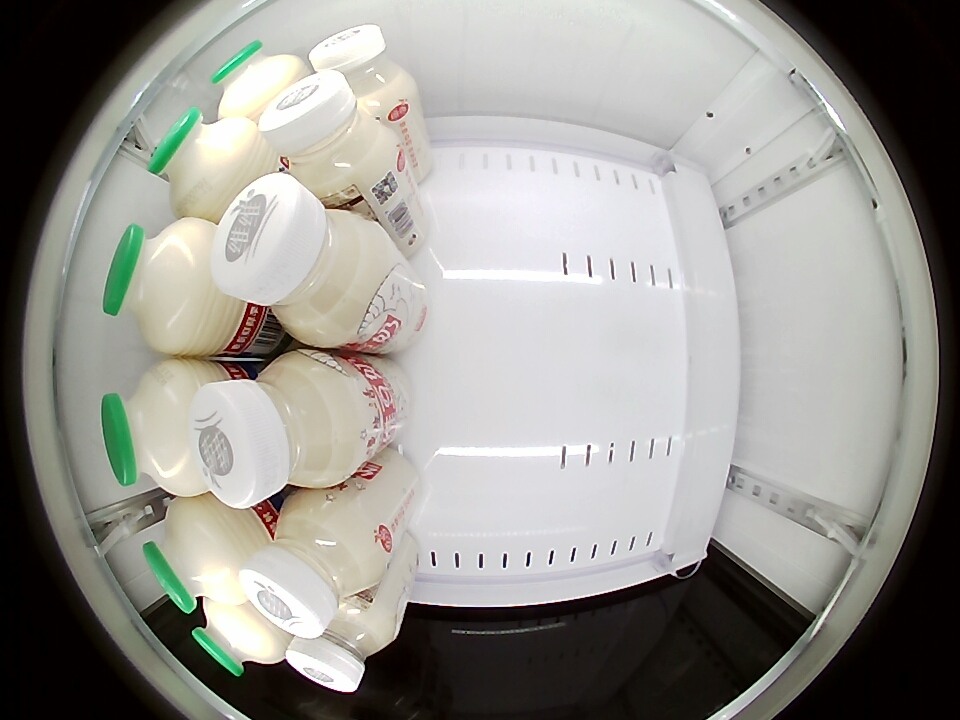liziyuan: (101, 217, 230, 355), (99, 359, 216, 496), (143, 496, 270, 613), (148, 106, 265, 220), (210, 40, 305, 122), (193, 596, 286, 677)
weiweidounai: (212, 173, 385, 347), (192, 350, 358, 507), (240, 492, 387, 636), (262, 71, 394, 199), (287, 596, 399, 692), (309, 24, 416, 114)
